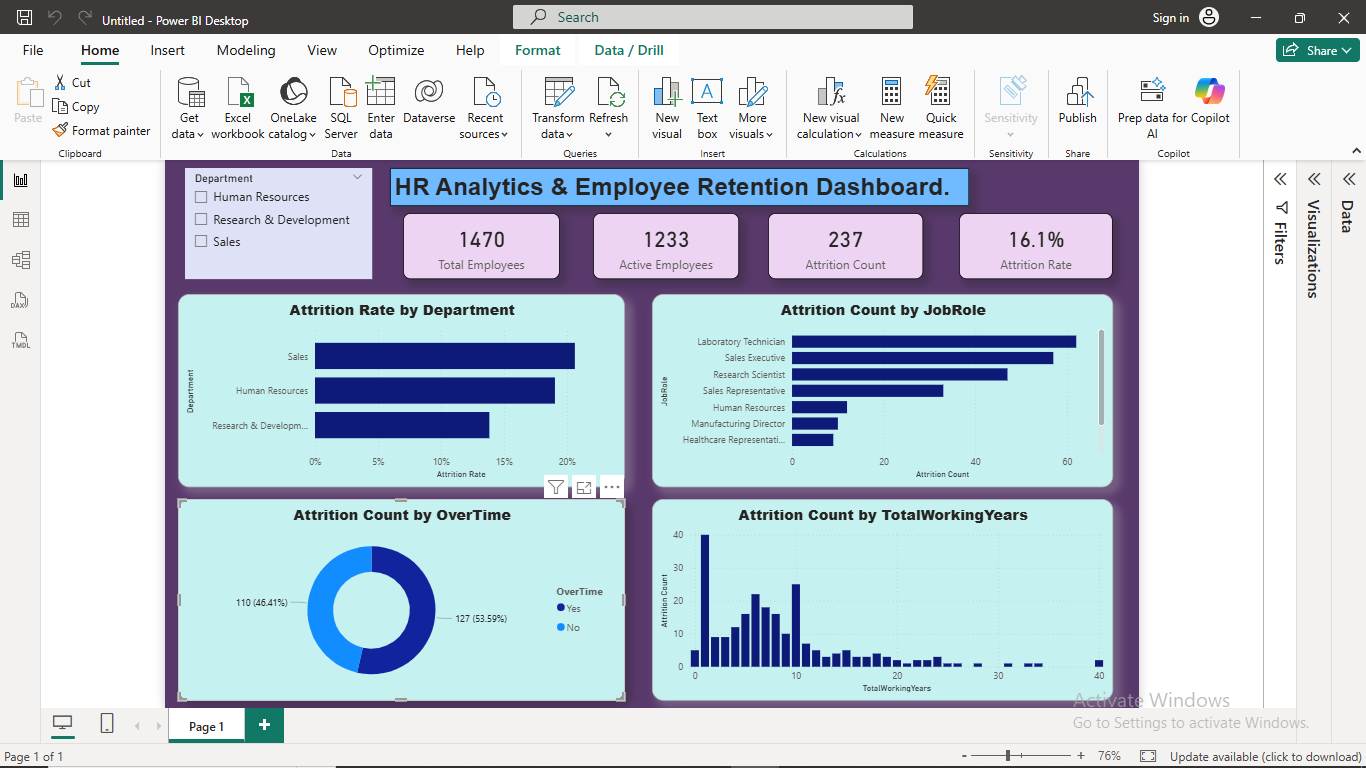

The dashboard page shown, as its layout file describes it:
{"tool":"powerbi","page":{"name":"Page 1","canvas":[1280,720],"ordinal":0},"visuals":[{"type":"textbox","box":[295.6,10.5,760.7,49.9],"z":0},{"type":"slicer","fields":{"Values":["WA_Fn-UseC_-HR-Employee-Attrition.Department"]},"box":[26.3,10.5,245.7,145.8],"z":1},{"type":"card","fields":{"Values":["WA_Fn-UseC_-HR-Employee-Attrition.Total Employees"]},"box":[312.7,69.6,206.3,86.7],"z":6},{"type":"card","fields":{"Values":["WA_Fn-UseC_-HR-Employee-Attrition.Active Employees"]},"box":[562.3,69.6,191.8,86.7],"z":7},{"type":"card","fields":{"Values":["WA_Fn-UseC_-HR-Employee-Attrition.Attrition Count"]},"box":[792.3,69.6,203.6,86.7],"z":8},{"type":"card","fields":{"Values":["WA_Fn-UseC_-HR-Employee-Attrition.Attrition Rate"]},"box":[1043.2,69.6,202.3,86.7],"z":9},{"type":"clusteredBarChart","fields":{"Category":["WA_Fn-UseC_-HR-Employee-Attrition.Department"],"Y":["WA_Fn-UseC_-HR-Employee-Attrition.Attrition Rate"]},"box":[17.1,176.1,587.3,253.6],"z":10},{"type":"clusteredBarChart","fields":{"Category":["WA_Fn-UseC_-HR-Employee-Attrition.JobRole"],"Y":["WA_Fn-UseC_-HR-Employee-Attrition.Attrition Count"]},"box":[639.9,176.1,605.7,253.6],"z":11},{"type":"donutChart","fields":{"Category":["WA_Fn-UseC_-HR-Employee-Attrition.OverTime"],"Y":["WA_Fn-UseC_-HR-Employee-Attrition.Attrition Count"]},"box":[17.1,445.4,587.3,265.4],"z":12},{"type":"clusteredColumnChart","fields":{"Category":["WA_Fn-UseC_-HR-Employee-Attrition.TotalWorkingYears"],"Y":["WA_Fn-UseC_-HR-Employee-Attrition.Attrition Count"]},"box":[639.9,445.4,605.7,265.4],"z":13}]}

Visuals, with their boxes on the page's 1280x720 design canvas (x1, y1, x2, y2). These are canvas units, not pixel positions in the 1366x768 screenshot, which may show the page scaled, cropped or inside an application window:
textbox: detection(296, 10, 1056, 60)
slicer - WA_Fn-UseC_-HR-Employee-Attrition.Department: detection(26, 10, 272, 156)
card - WA_Fn-UseC_-HR-Employee-Attrition.Total Employees: detection(313, 70, 519, 156)
card - WA_Fn-UseC_-HR-Employee-Attrition.Active Employees: detection(562, 70, 754, 156)
card - WA_Fn-UseC_-HR-Employee-Attrition.Attrition Count: detection(792, 70, 996, 156)
card - WA_Fn-UseC_-HR-Employee-Attrition.Attrition Rate: detection(1043, 70, 1246, 156)
clusteredBarChart - WA_Fn-UseC_-HR-Employee-Attrition.Department x WA_Fn-UseC_-HR-Employee-Attrition.Attrition Rate: detection(17, 176, 604, 430)
clusteredBarChart - WA_Fn-UseC_-HR-Employee-Attrition.JobRole x WA_Fn-UseC_-HR-Employee-Attrition.Attrition Count: detection(640, 176, 1246, 430)
donutChart - WA_Fn-UseC_-HR-Employee-Attrition.OverTime x WA_Fn-UseC_-HR-Employee-Attrition.Attrition Count: detection(17, 445, 604, 711)
clusteredColumnChart - WA_Fn-UseC_-HR-Employee-Attrition.TotalWorkingYears x WA_Fn-UseC_-HR-Employee-Attrition.Attrition Count: detection(640, 445, 1246, 711)
